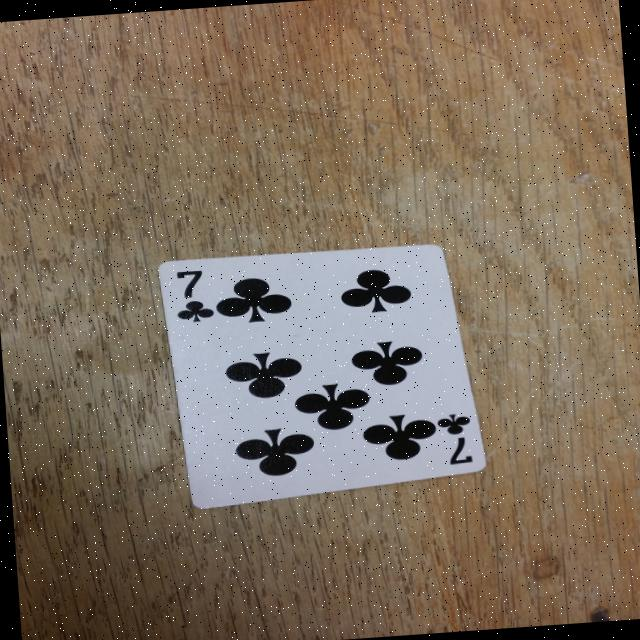7c: (424, 405, 486, 475), (162, 262, 222, 328)
